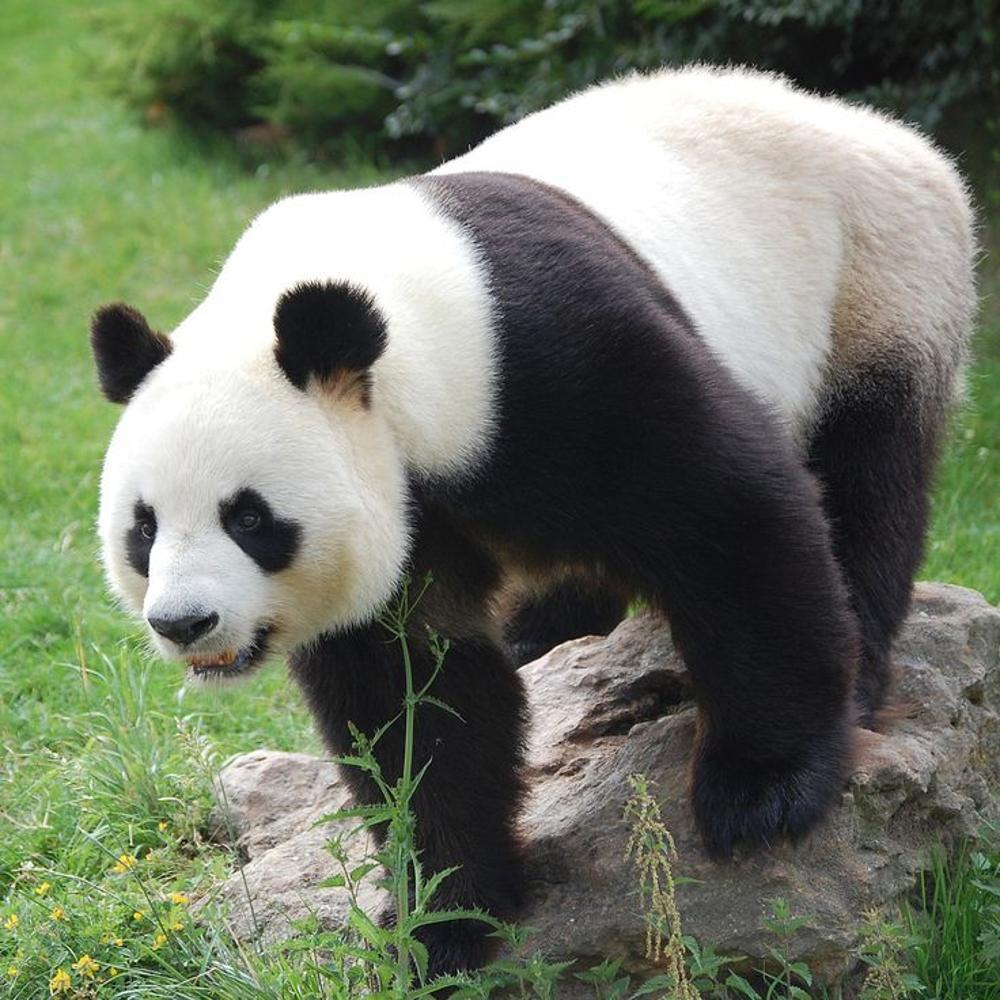panda: (80, 62, 989, 942)
